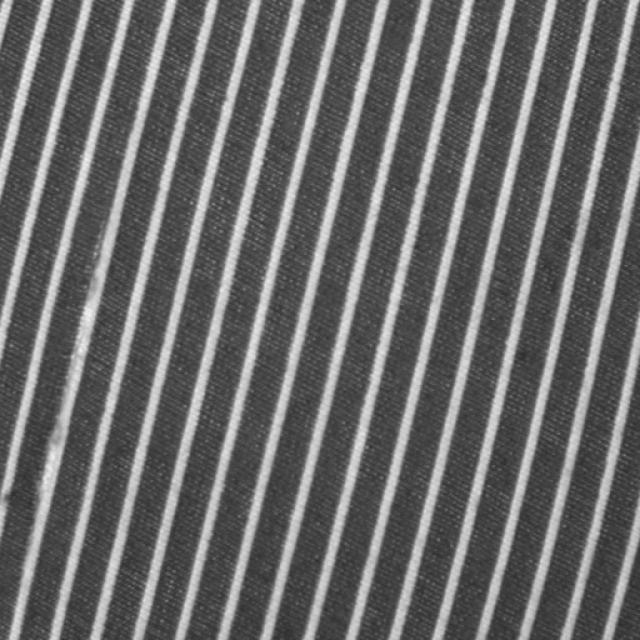Thread-Defect: (36, 200, 116, 514)
